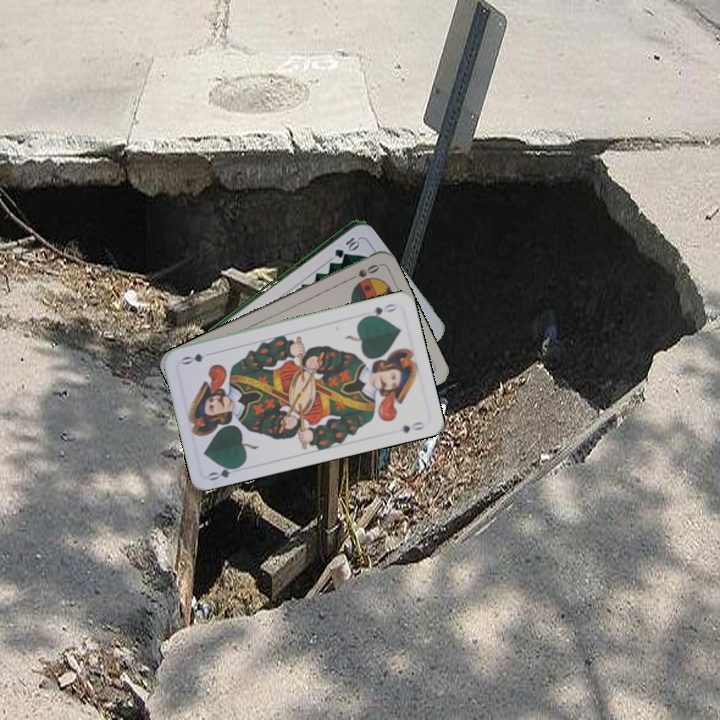G10: (330, 233, 361, 259)
GO: (204, 461, 244, 483), (360, 300, 400, 320)
SO: (343, 260, 382, 284)
